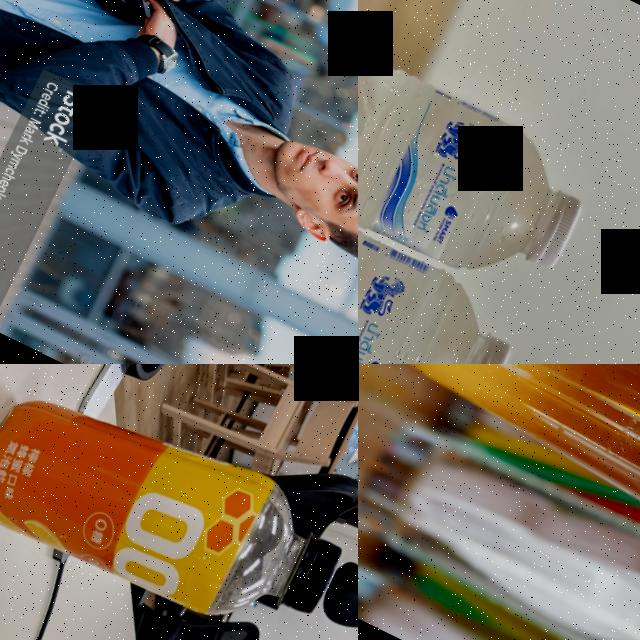bottle: (0, 364, 358, 640), (358, 0, 599, 317), (358, 111, 527, 364)
cup: (358, 364, 640, 631), (98, 0, 240, 30)
